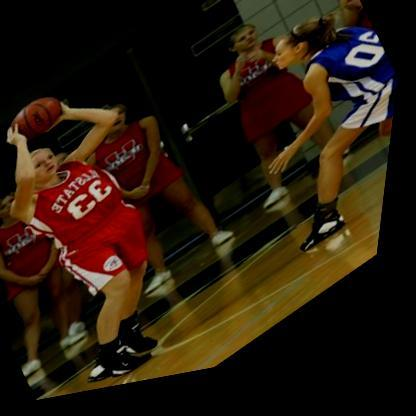basketball: (0, 87, 74, 158)
